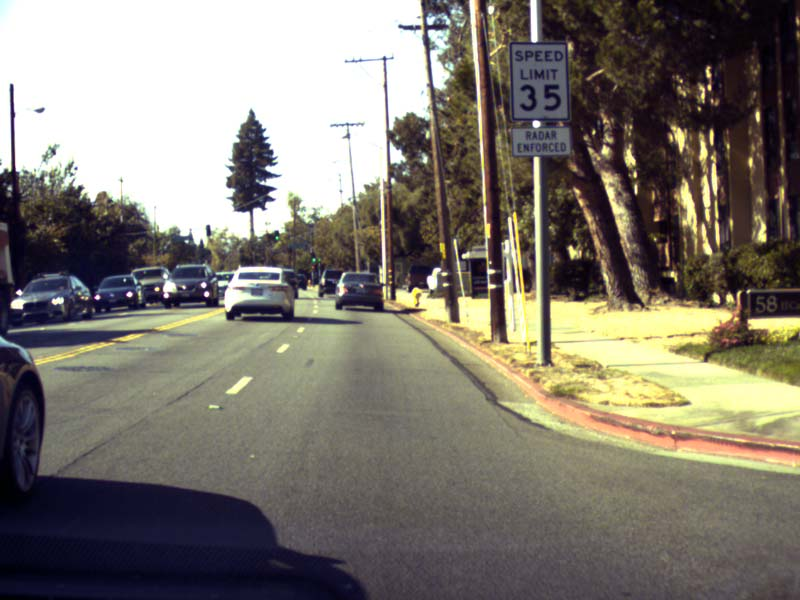Green: (310, 251, 316, 264), (274, 230, 279, 241), (317, 256, 321, 261)
